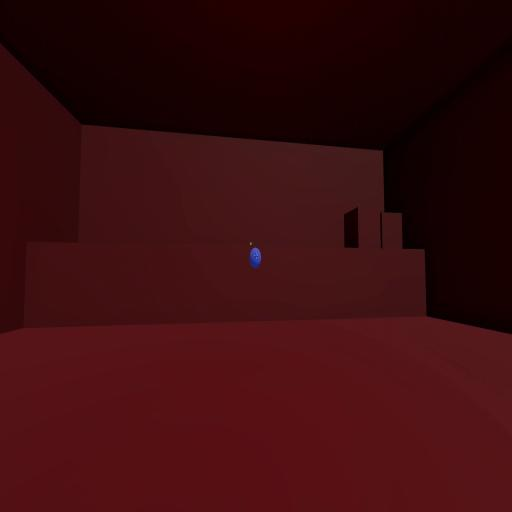Crosshair: (254, 252, 258, 260)
Target: (250, 248, 262, 268)
